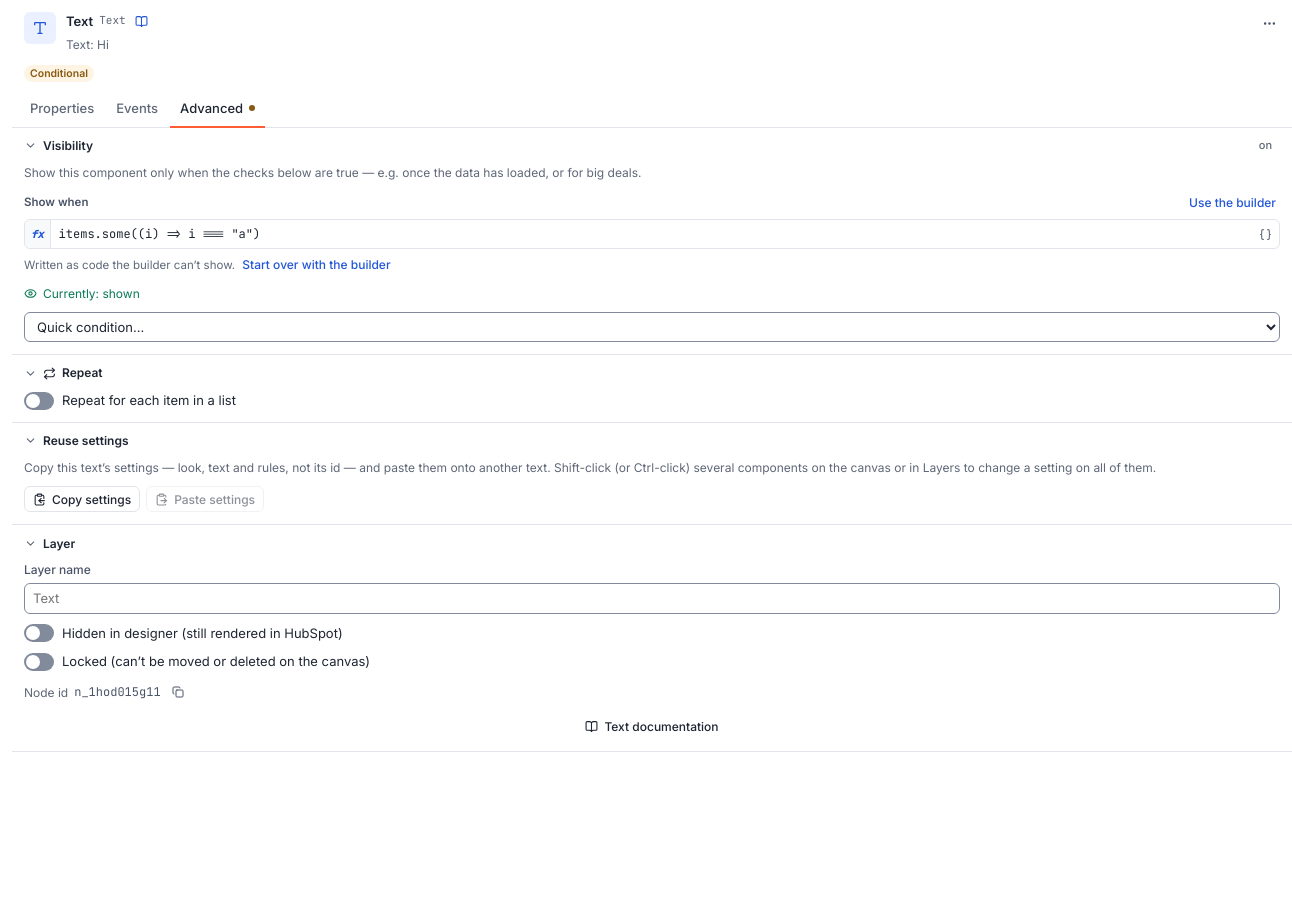
condition builder: Advanced › Visibility › falls back to code for anything else
Expected: the dropdown named "Visibility condition" holds "items.some((i) => i === \"a\")", [51,220,1254,248]
Expected: the button "Use the builder" is disabled, [1185,193,1280,212]
Click the button "Start over with the builder". click: (316, 265)
box: [238,255,395,275]
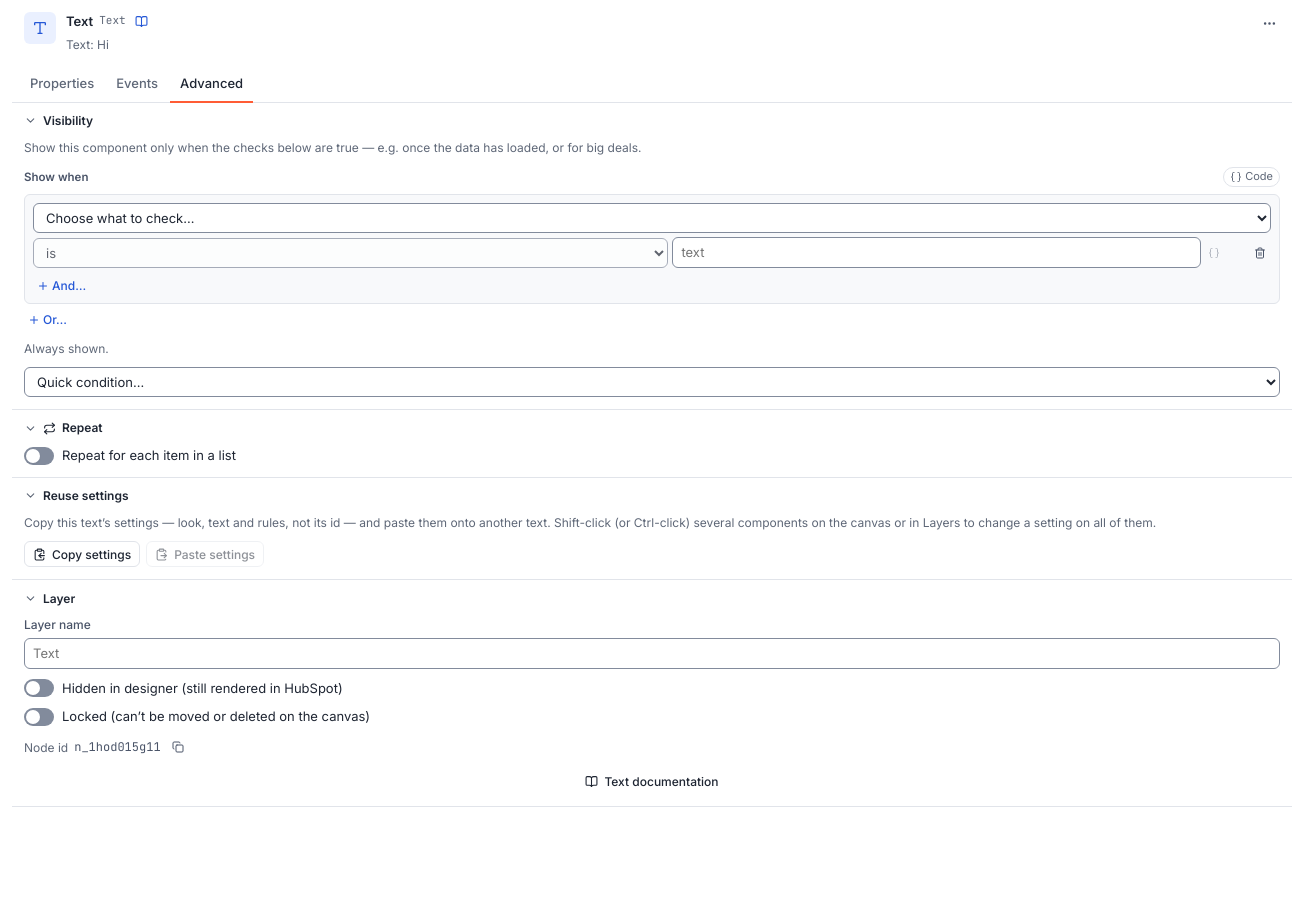
Result: the dropdown named "Check 1: what to check" is shown at [33,203,1271,233]
